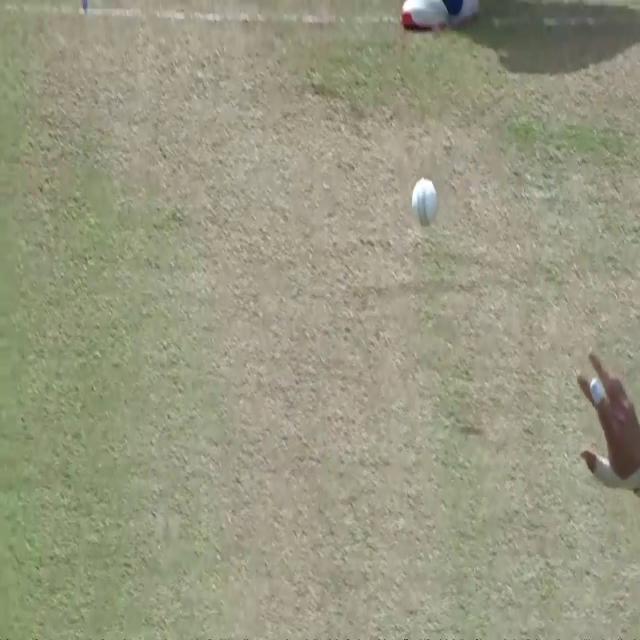ball: (411, 178, 439, 226)
